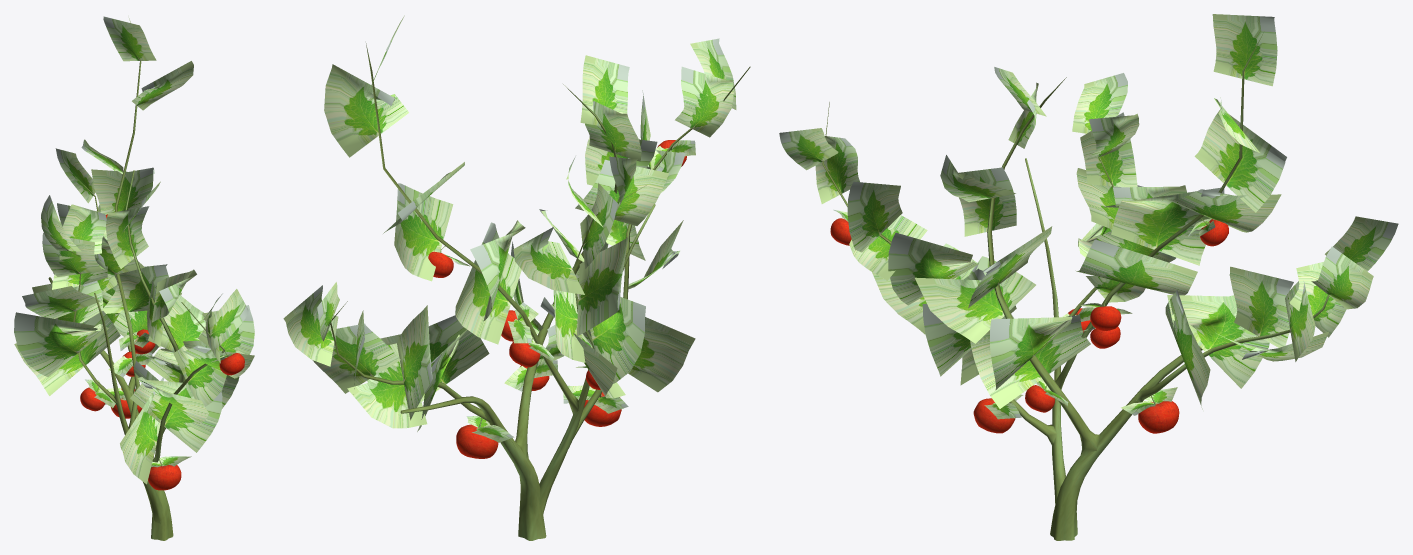
Rendered from RosiiStage3.fbx.
3 renders of one model, left to right at view 1: azimuth 30°, elevation 25°; view 2: azimuth 150°, elevation 25°; view 3: azimuth 270°, elevation 25°, orthographic. The views are drawn at different scales.
Visible parts, largest first — view 1: SM_Plant_18; view 2: SM_Plant_18; view 3: SM_Plant_18.
Part boxes in pixels (left/top/right/bottom): SM_Plant_18: left=14, top=16, right=254, bottom=540; SM_Plant_18: left=283, top=15, right=750, bottom=540; SM_Plant_18: left=779, top=14, right=1398, bottom=540.
Size of the model in its own units: 43.6 by 89.47 by 86.92.
Materials: 3 (3 with a texture image).
